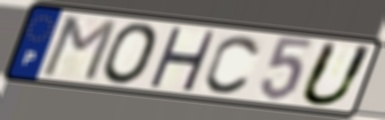5: (257, 35, 317, 105)
C: (203, 32, 264, 96)
H: (146, 25, 218, 93)
M: (38, 14, 121, 84)
O: (101, 21, 162, 87)
U: (296, 39, 378, 108)
